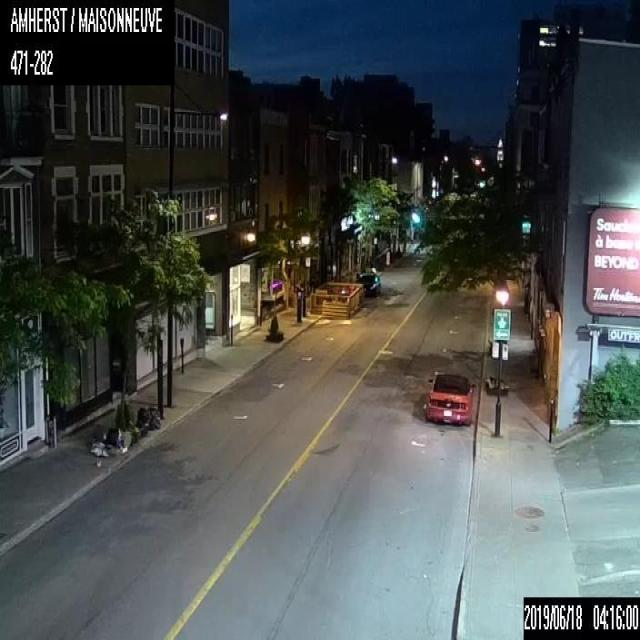vehicle: (424, 372, 476, 425), (355, 273, 378, 296)
